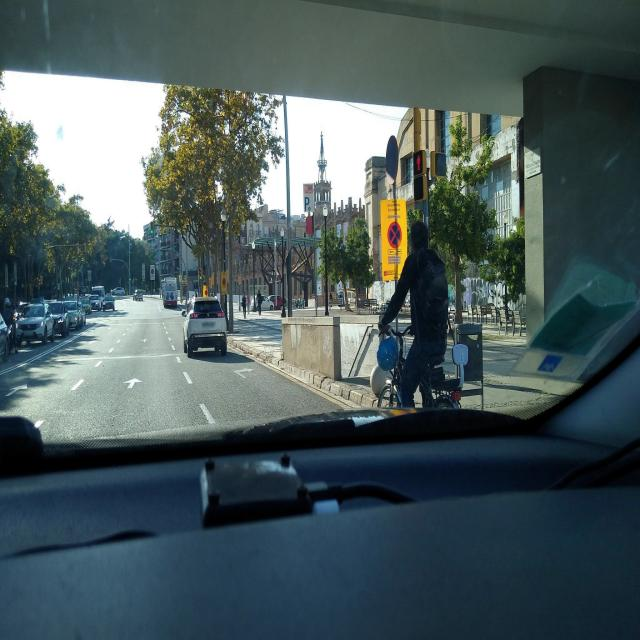car: (182, 296, 228, 358), (15, 302, 54, 346), (47, 300, 70, 336), (64, 299, 82, 329), (260, 295, 283, 311), (250, 296, 274, 311), (80, 295, 92, 315), (103, 295, 115, 311), (133, 289, 144, 302), (111, 287, 126, 295)
